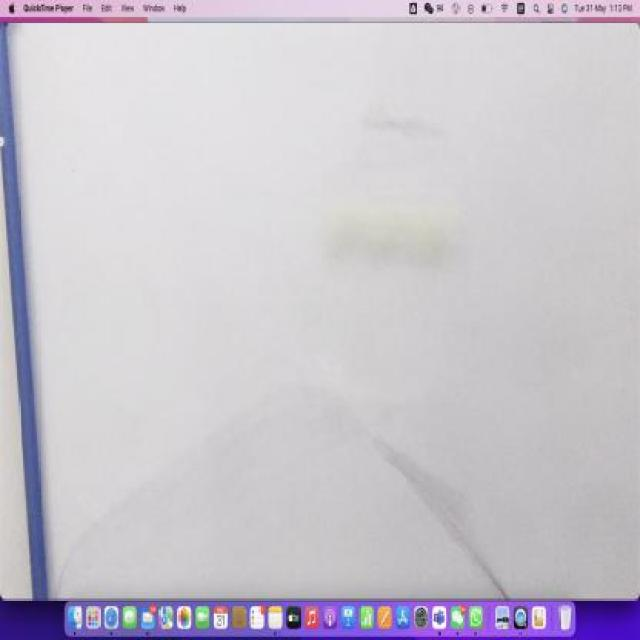baseball: (334, 194, 449, 275)
